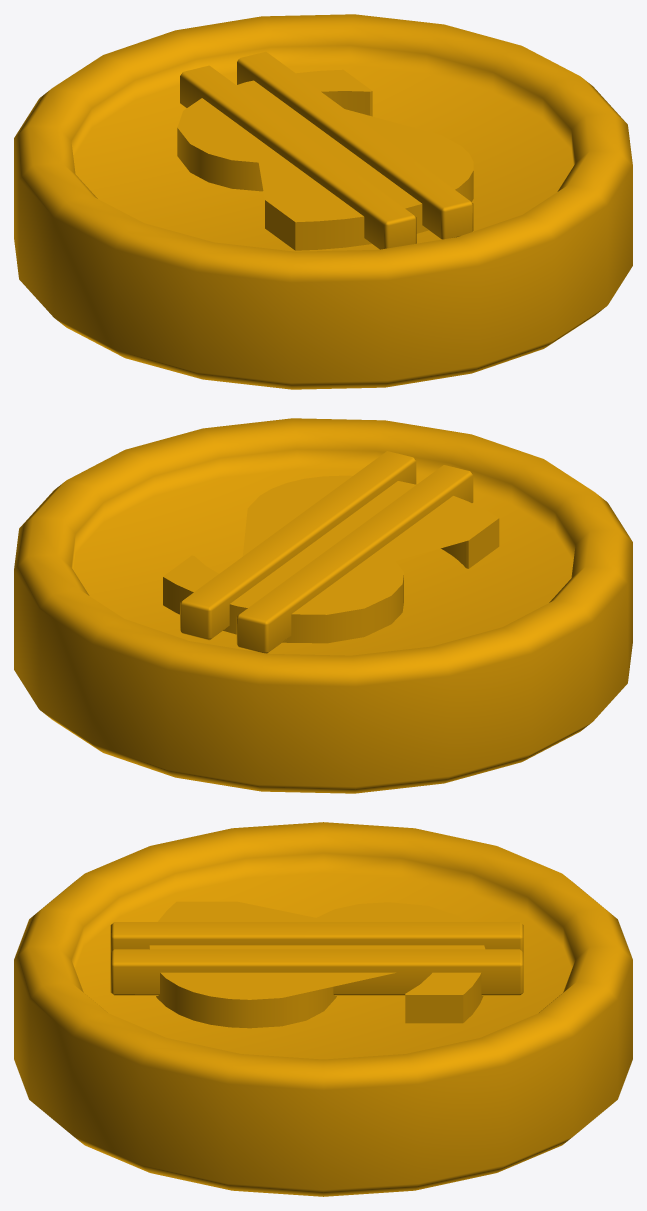
File: coin.fbx
The picture shows the model from 3 angles, top to bottom: view 1: azimuth 30°, elevation 25°; view 2: azimuth 150°, elevation 25°; view 3: azimuth 270°, elevation 25°; orthographic projection.
Parts seen in each view (by area): view 1: coin; view 2: coin; view 3: coin.
Boxes of the visible parts, <box> form: coin: <box>14,14,632,389</box>; coin: <box>14,418,632,793</box>; coin: <box>14,822,632,1196</box>.
Size of the model in its own units: 501 by 121 by 501.
